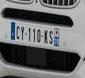0: (37, 28, 41, 44)
1: (28, 26, 32, 42), (32, 27, 36, 42)
C: (16, 25, 21, 40)
K: (44, 29, 49, 45)
S: (49, 30, 53, 44)
Y: (21, 26, 25, 41)
